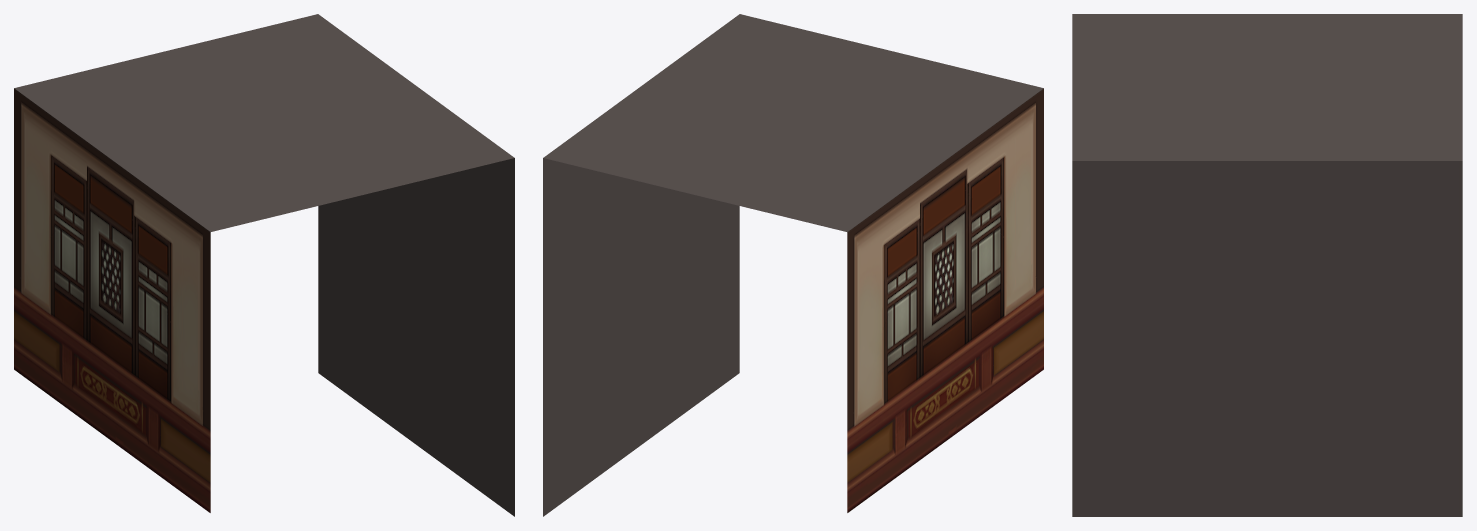
Rendered from FB_Chengxiangfu_qiang02.FBX.
The picture shows the model from 3 angles, left to right: view 1: azimuth 30°, elevation 25°; view 2: azimuth 150°, elevation 25°; view 3: azimuth 270°, elevation 25°; orthographic projection.
Visible parts, largest first — view 1: Object18; view 2: Object18; view 3: Object18.
Boxes of the visible parts, x1,y1,x2,y2 form: Object18: (14, 14, 514, 516); Object18: (543, 14, 1043, 516); Object18: (1072, 14, 1462, 516).
Size of the model in its own units: 6.67 by 7.53 by 7.48.
